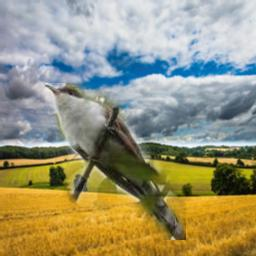Cuckoo: (45, 83, 186, 240)
